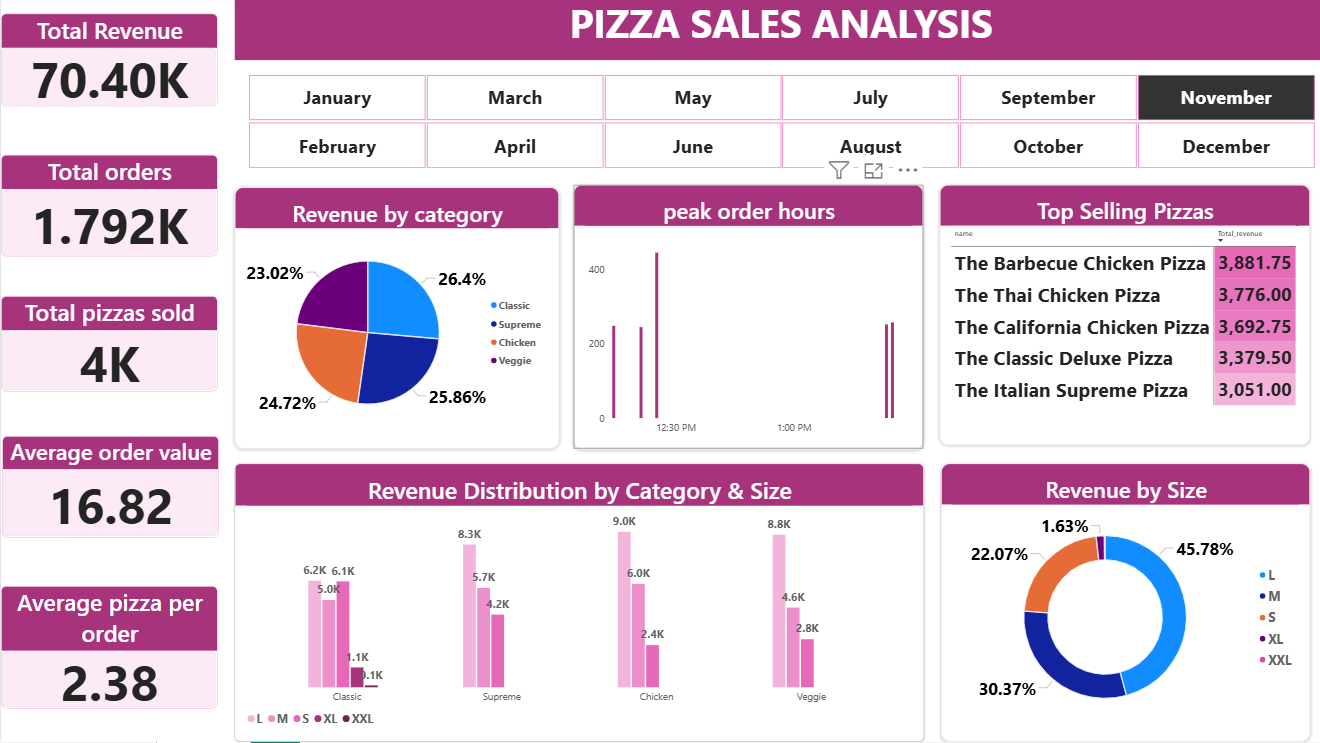

Layout of this report page (visuals, bound fields, positions):
{"tool":"powerbi","page":{"name":"Page 1","canvas":[1920,1080],"ordinal":0},"visuals":[{"type":"textbox","box":[337.6,0,1582,93.1],"z":0},{"type":"cardVisual","title":"Total Revenue","fields":{"Data":["order_details.Total_revenue"]},"box":[0,26,313.8,134.2],"z":1000},{"type":"cardVisual","title":"Total orders","fields":{"Data":["Count(order_details.order_id)"]},"box":[0,229.4,313.8,147.2],"z":2000},{"type":"cardVisual","title":"Average pizza per order","fields":{"Data":["order_details.average_pizza_per_order"]},"box":[0,854.8,313.8,177.5],"z":3000},{"type":"cardVisual","title":"Average order value","fields":{"Data":["order_details.Average_order_values"]},"box":[2.2,636.3,313.8,147.2],"z":4000},{"type":"cardVisual","title":"Total pizzas sold","fields":{"Data":["Sum(order_details.quantity)"]},"box":[0,435,313.8,138.5],"z":5000},{"type":"slicer","fields":{"Values":["orders.date.Variation.Date Hierarchy.Month"]},"box":[337.6,112.5,1582,138.5],"z":6000},{"type":"pieChart","title":"Revenue by category","fields":{"Category":["pizza_types.category"],"Y":["order_details.Total_revenue"]},"box":[337.6,277,469.6,378.7],"z":7000},{"type":"lineStackedColumnComboChart","title":"peak order hours","fields":{"Category":["orders.time"],"Y":["order_details.Total_revenue"]},"box":[828.9,272.7,506.4,383.1],"z":8000},{"type":"donutChart","title":"Revenue by Size","fields":{"Category":["pizzas.size"],"Y":["order_details.Total_revenue"]},"box":[1361.2,677.4,534.5,402.5],"z":9000},{"type":"pivotTable","title":"Top Selling Pizzas","fields":{"Rows":["pizza_types.name"],"Values":["order_details.Total_revenue"]},"box":[1359.1,273.3,535.7,376.4],"z":10000},{"type":"clusteredColumnChart","title":"Revenue Distribution by Category & Size","fields":{"Category":["pizza_types.category"],"Series":["pizzas.size"],"Y":["order_details.Total_revenue"]},"box":[337.6,677.4,997.7,402.5],"z":11000}]}

Visuals, with their boxes in screenshot pixels (x1, y1, x2, y2), scaled from the page's 1920x1080 canvas onto the 1320x743 screenshot:
textbox: box(232, 0, 1319, 64)
"Total Revenue" cardVisual: box(0, 18, 216, 110)
"Total orders" cardVisual: box(0, 158, 216, 259)
"Average pizza per order" cardVisual: box(0, 588, 216, 710)
"Average order value" cardVisual: box(2, 438, 217, 539)
"Total pizzas sold" cardVisual: box(0, 299, 216, 395)
slicer - orders.date.Variation.Date Hierarchy.Month: box(232, 77, 1319, 173)
"Revenue by category" pieChart: box(232, 191, 555, 451)
"peak order hours" lineStackedColumnComboChart: box(570, 188, 918, 451)
"Revenue by Size" donutChart: box(936, 466, 1303, 742)
"Top Selling Pizzas" pivotTable: box(934, 188, 1303, 447)
"Revenue Distribution by Category & Size" clusteredColumnChart: box(232, 466, 918, 742)
